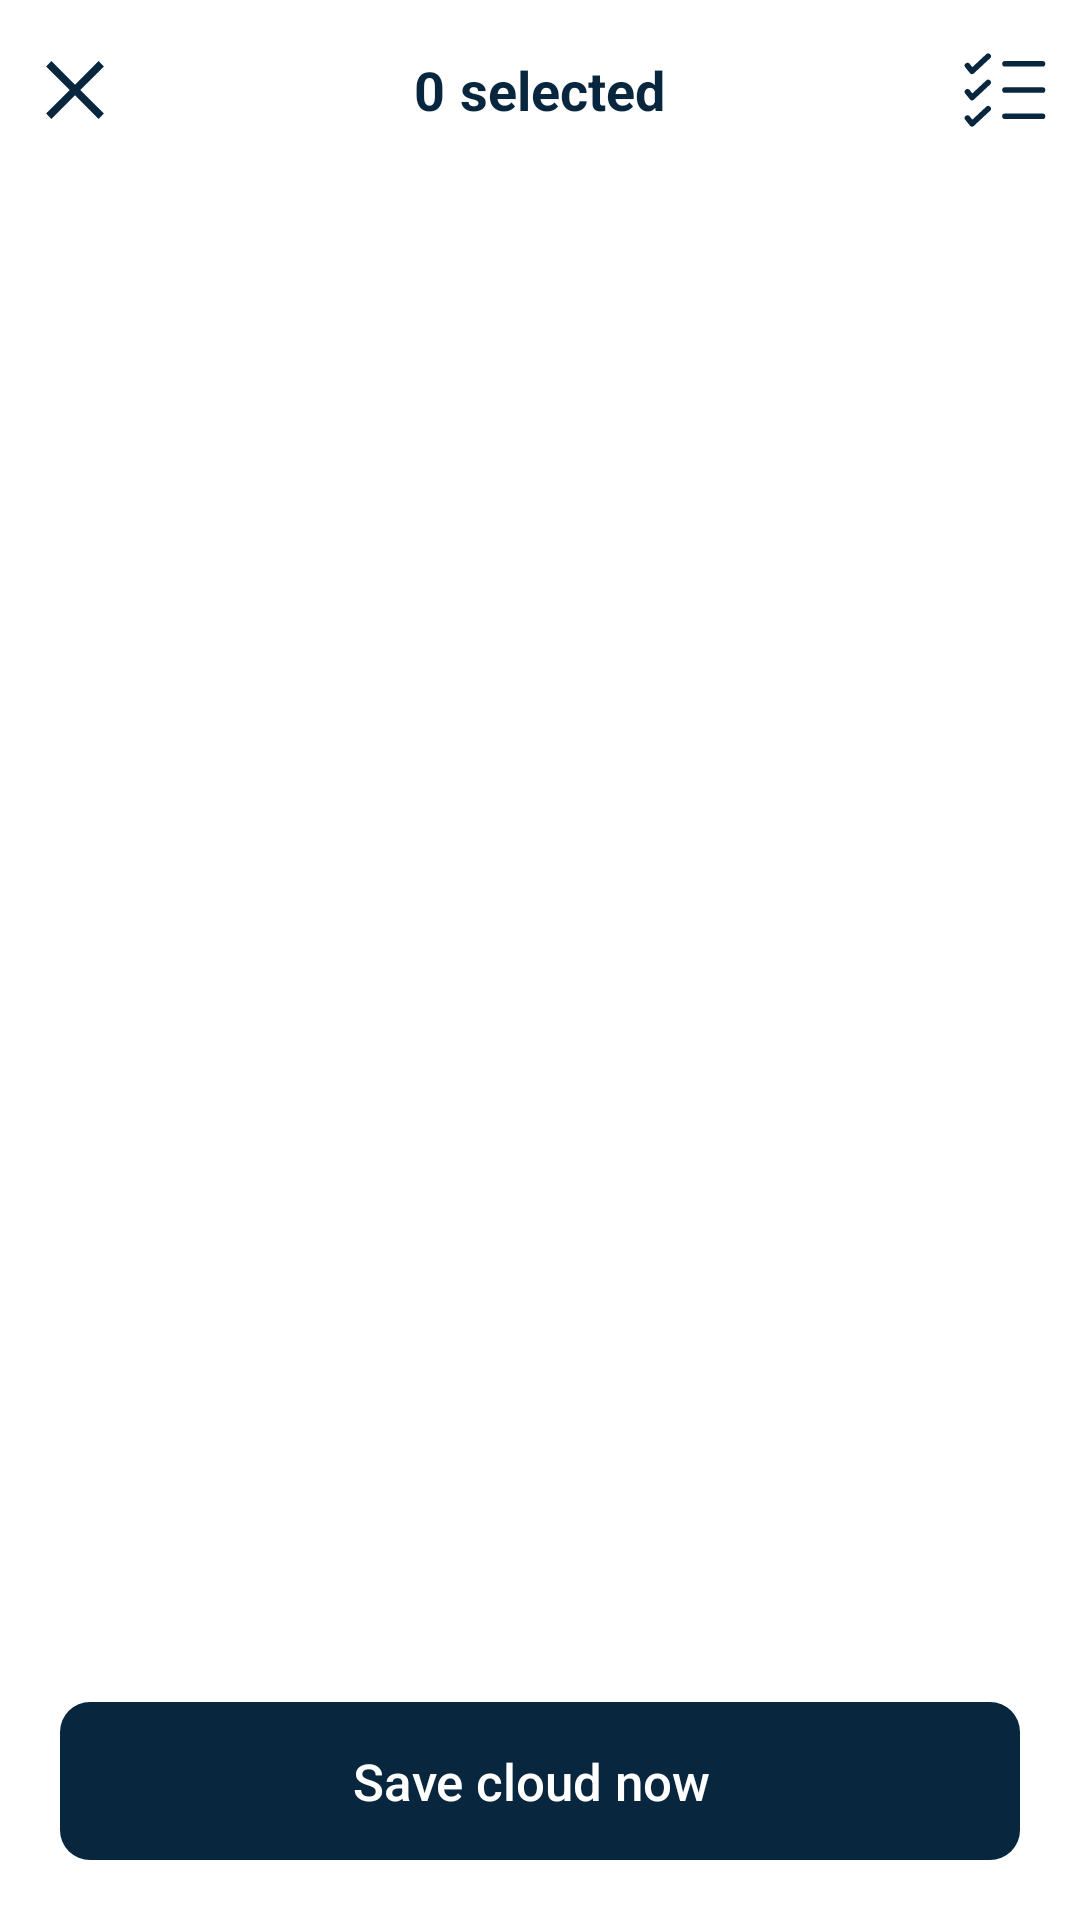

Screen size 1080px×1920px. Icon name, then its center in pixels as [x,y]:
Back to previous screen: [75,90]
Mark all contact: [1005,90]
